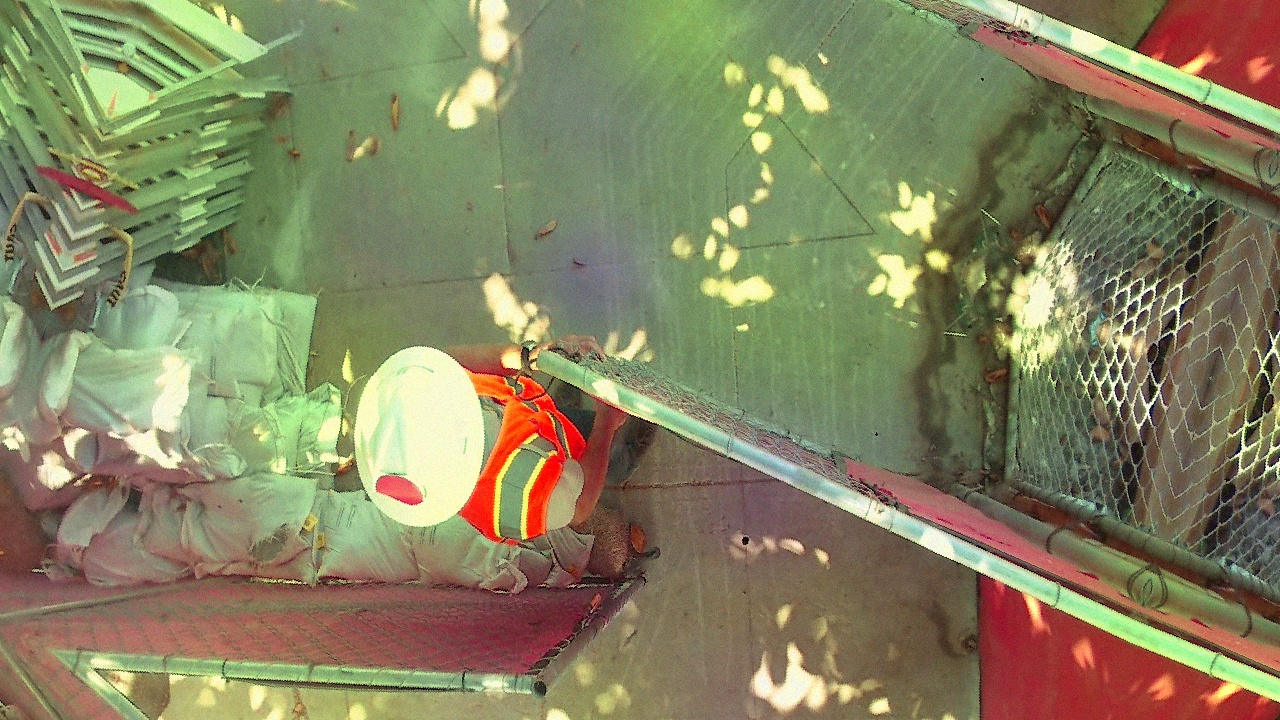hardhat: (353, 346, 487, 529)
person: (327, 358, 659, 545)
red: (373, 465, 428, 513)
safetyvest: (422, 375, 593, 546)
